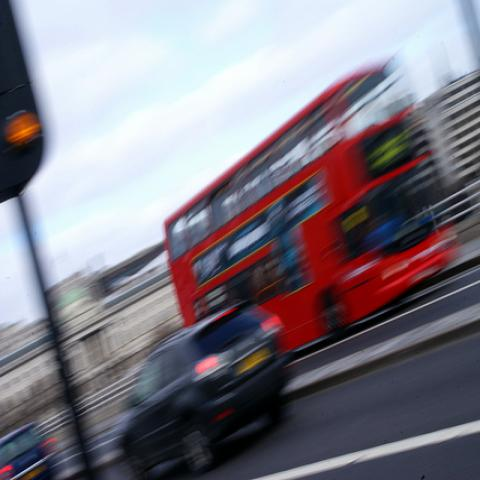bus: (163, 57, 464, 354)
car: (116, 305, 290, 474), (0, 420, 62, 474)
